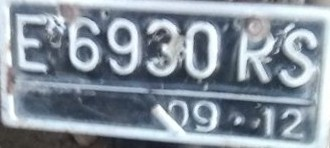plate: (1, 1, 330, 147)
